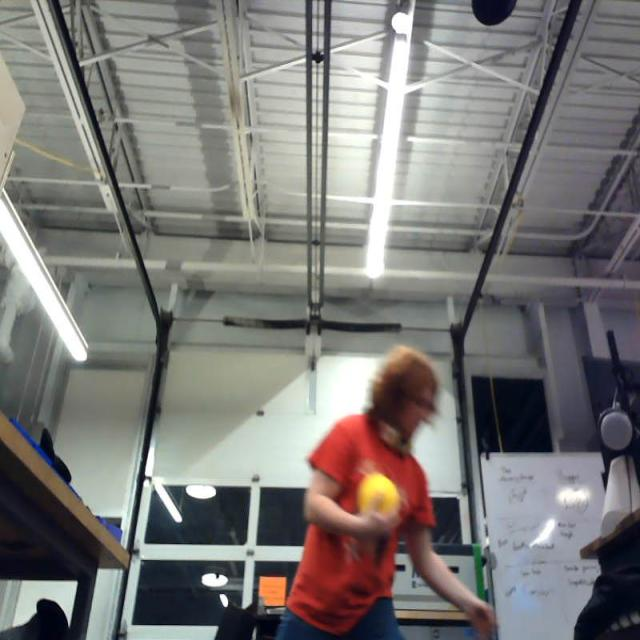Fuel: (359, 475, 399, 525)
